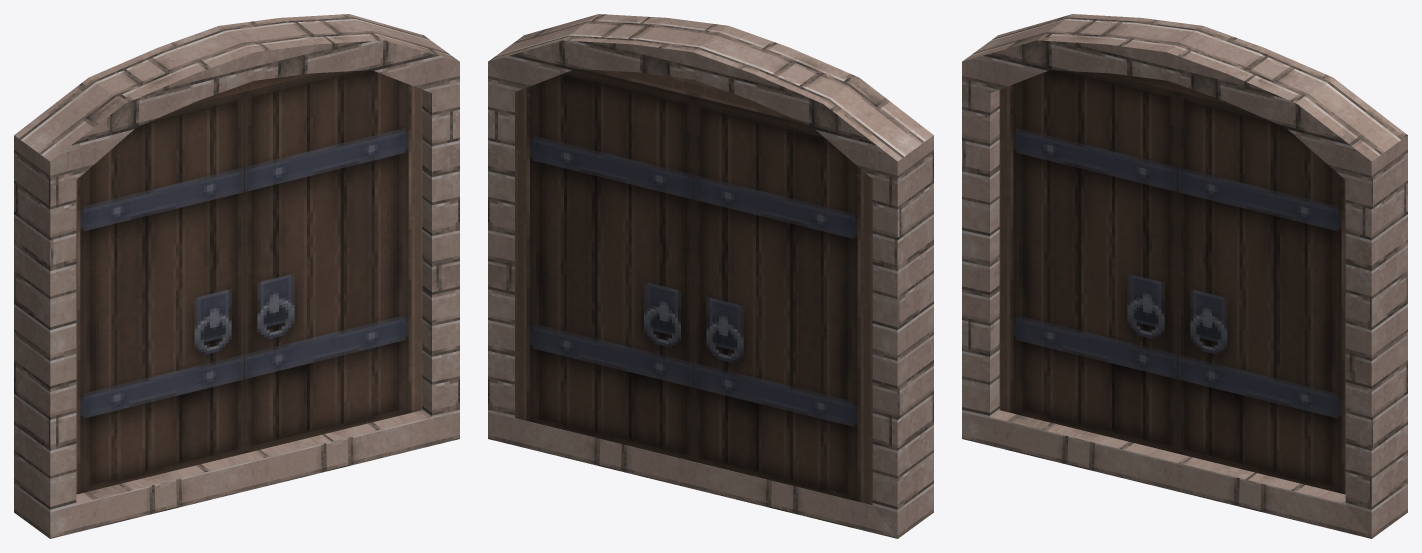
The model's file is door_stone_double.glb.
3 renders of one model, left to right at view 1: azimuth 30°, elevation 25°; view 2: azimuth 150°, elevation 25°; view 3: azimuth 330°, elevation 25°, orthographic.
Parts seen in each view (by area): view 1: door_stone_double; view 2: door_stone_double; view 3: door_stone_double.
Boxes of the visible parts, left/top/right/bottom form: door_stone_double: left=14, top=14, right=459, bottom=538; door_stone_double: left=488, top=14, right=933, bottom=538; door_stone_double: left=962, top=14, right=1407, bottom=538.
Bounding box in the file's own units: 2.39 × 2.43 × 0.3645.
Materials: 1 (1 with a texture image).
